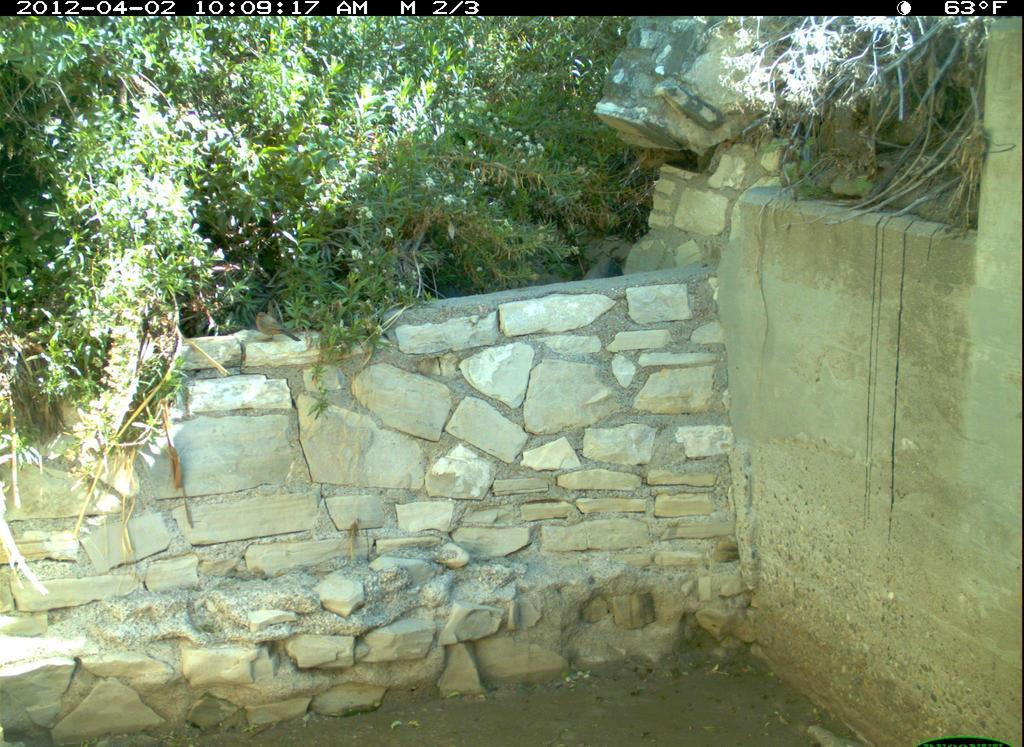bird: (251, 307, 305, 347)
